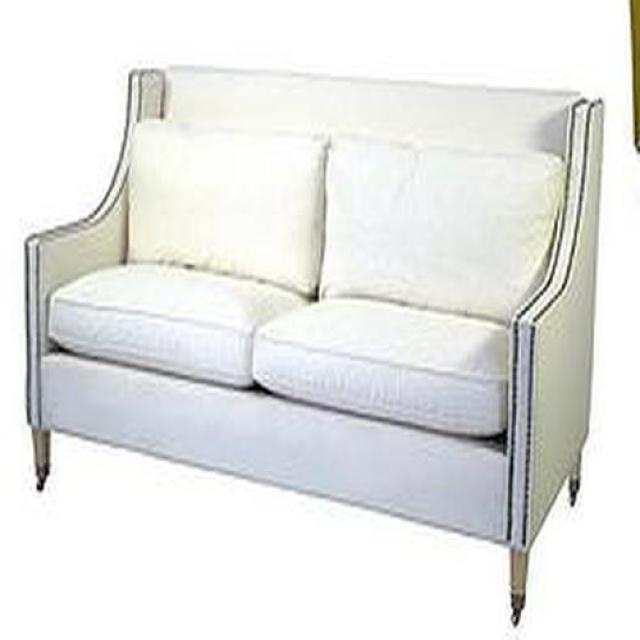sofa: (23, 65, 605, 581)
